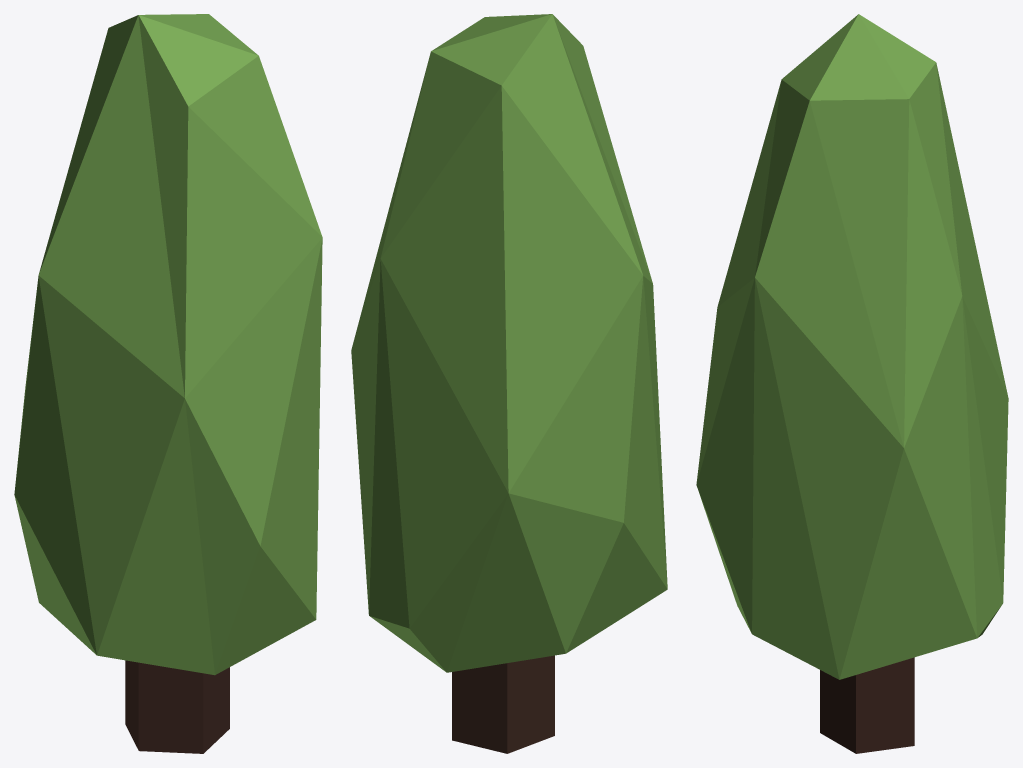
Rendered from Tree_2_Green_vc.fbx.
3 renders of one model, left to right at view 1: azimuth 30°, elevation 25°; view 2: azimuth 150°, elevation 25°; view 3: azimuth 270°, elevation 25°, orthographic. The views are drawn at different scales.
Parts seen in each view (by area): view 1: Tree_2_Green_vc; view 2: Tree_2_Green_vc; view 3: Tree_2_Green_vc.
Boxes of the visible parts, x1,y1,x2,y2 form: Tree_2_Green_vc: (14,14,322,753); Tree_2_Green_vc: (351,14,667,753); Tree_2_Green_vc: (696,14,1008,753).
Bounding box in the file's own units: 143 × 360 × 146.
